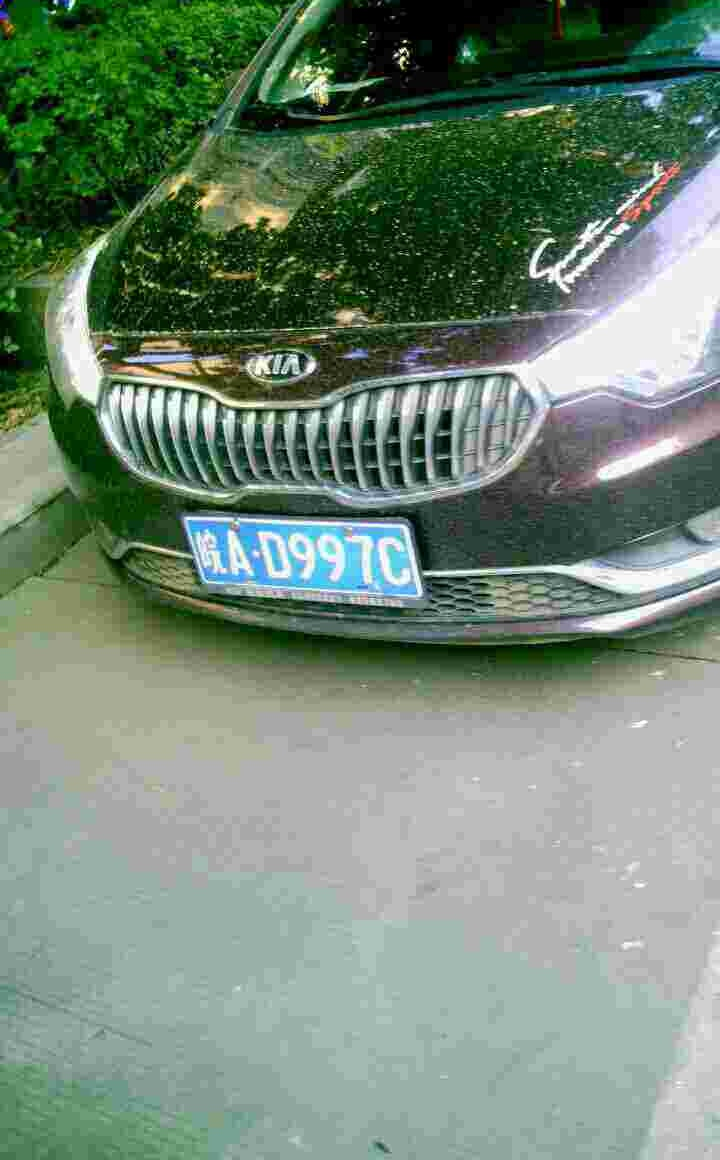license_plate: (187, 516, 409, 601)
